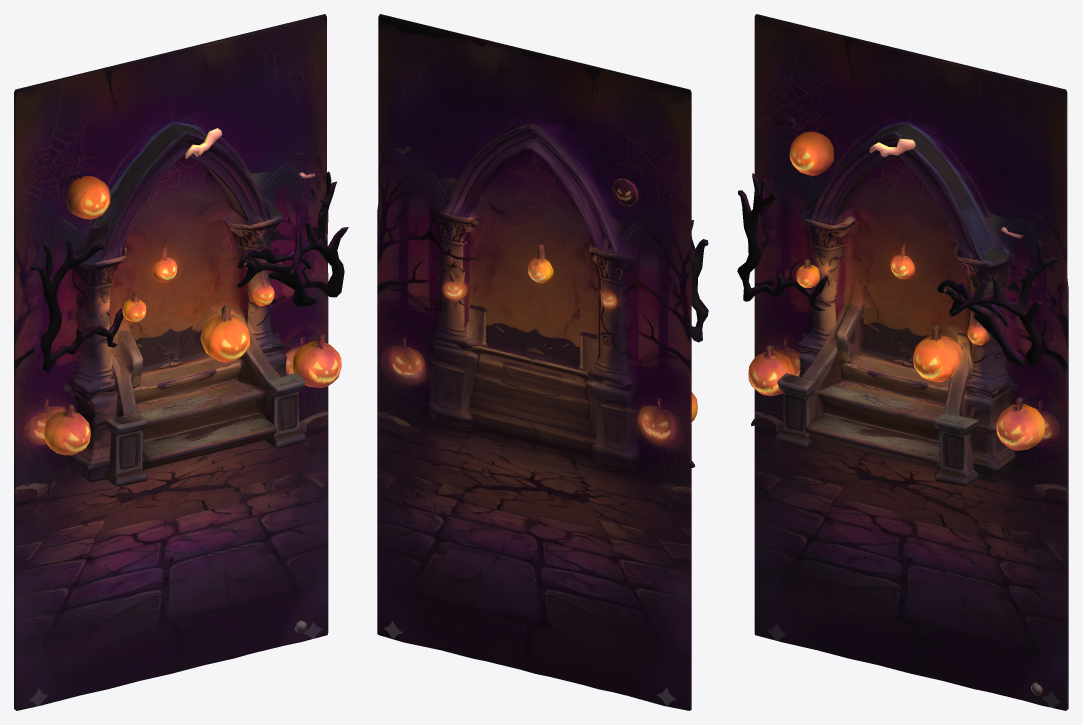
Rendered from Meshy_AI_Haunted_Pumpkin_Archw_0617132816_texture.fbx.
3 renders of one model, left to right at view 1: azimuth 30°, elevation 25°; view 2: azimuth 150°, elevation 25°; view 3: azimuth 330°, elevation 25°, orthographic.
Parts seen in each view (by area): view 1: Mesh_0; view 2: Mesh_0; view 3: Mesh_0.
Part boxes in pixels (<box>): Mesh_0: <box>14,14,348,710</box>; Mesh_0: <box>377,14,708,710</box>; Mesh_0: <box>737,14,1068,710</box>.
Size of the model in its own units: 101 by 191 by 27.79.
Materials: 1 (1 with a texture image).
